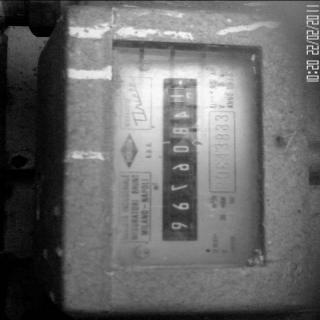1: (171, 143, 193, 155)
2: (168, 89, 186, 102)
5: (173, 107, 194, 119)
7: (169, 200, 192, 213), (171, 162, 194, 174)
8: (169, 181, 193, 193)
9: (172, 124, 192, 136)
object: (170, 220, 191, 233)
